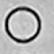no answer: (5, 7, 43, 44)
